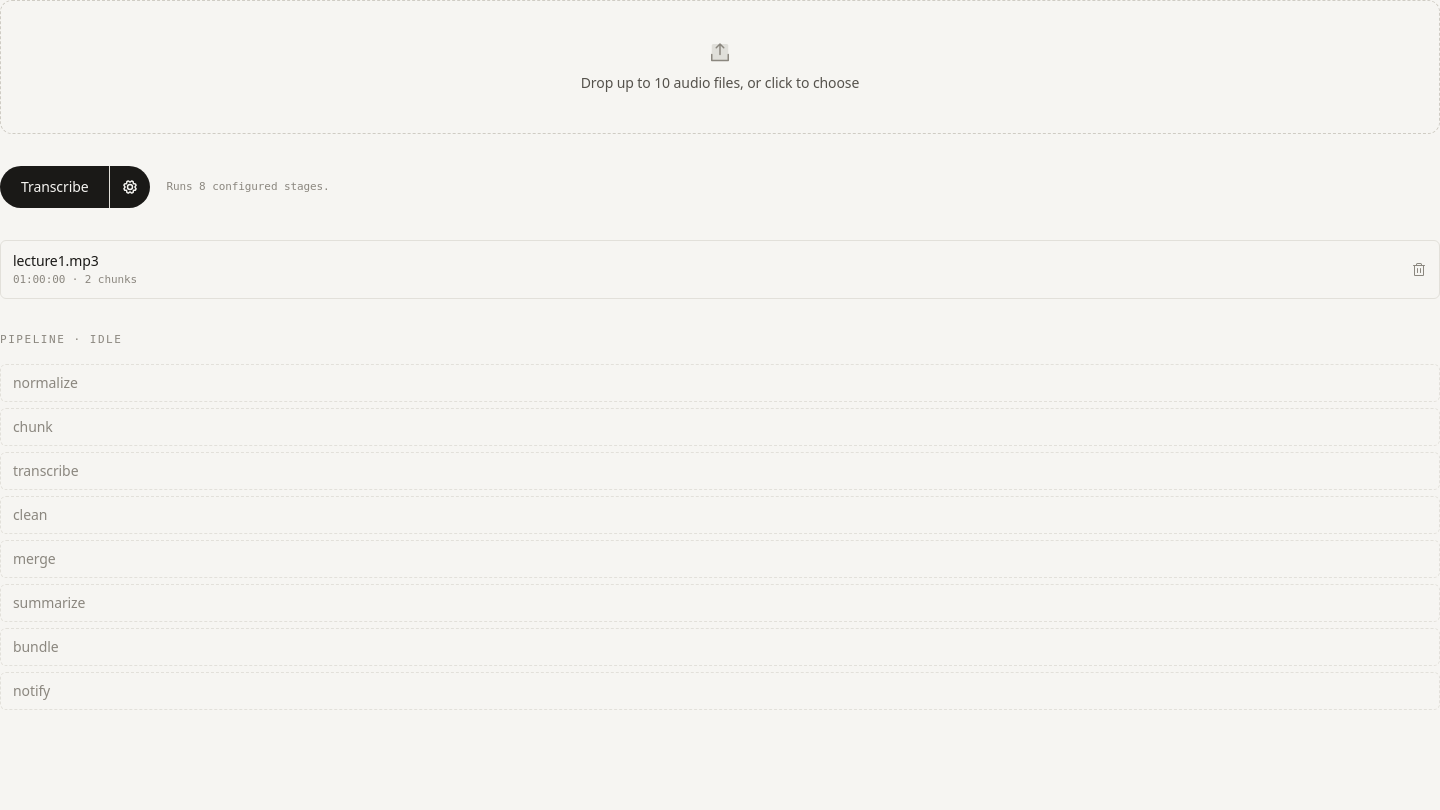
Test case: gear opens the run settings modal
Click the button named "run settings": x=130, y=187 [110,166,150,208]
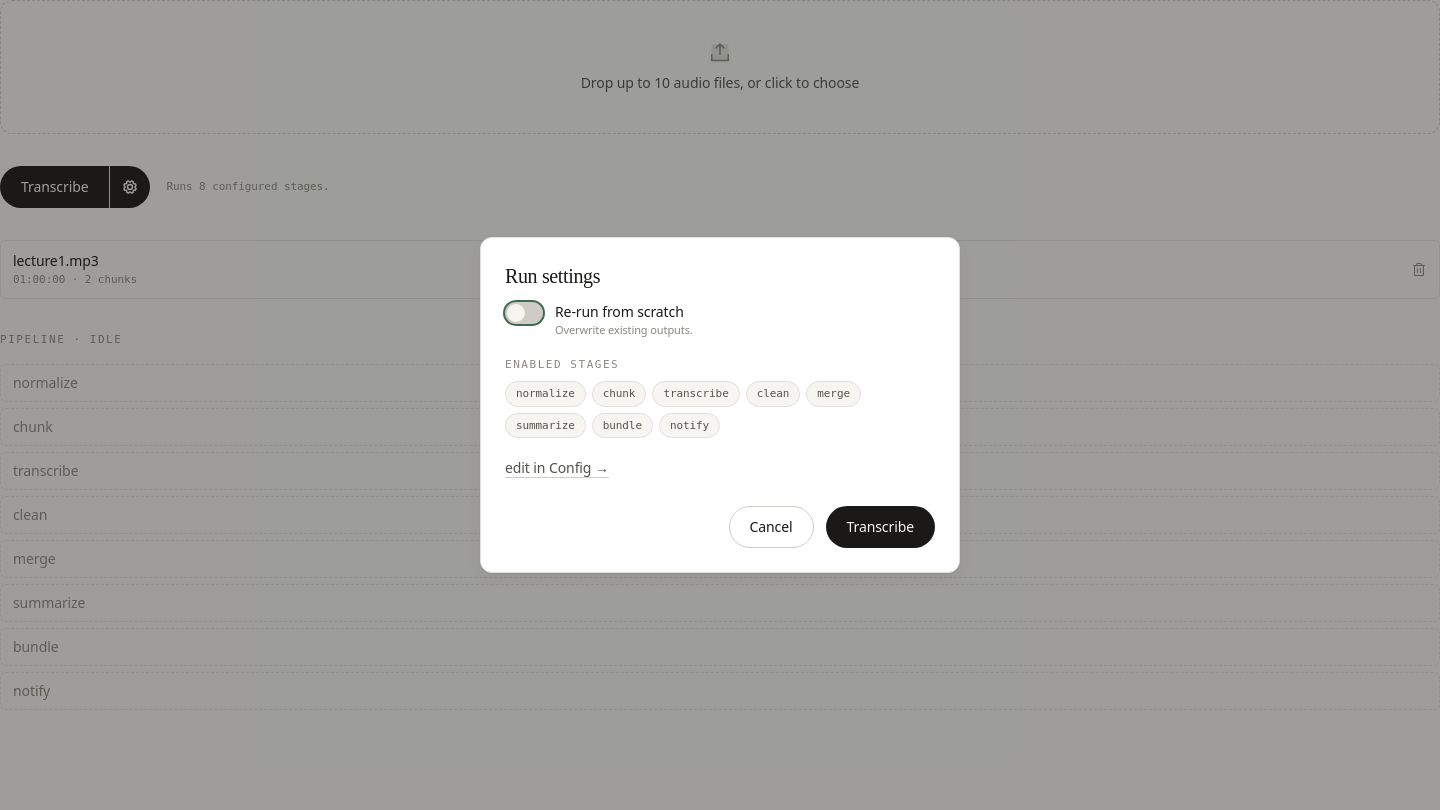
Check: the dialog is shown, box [480,237,960,573]
